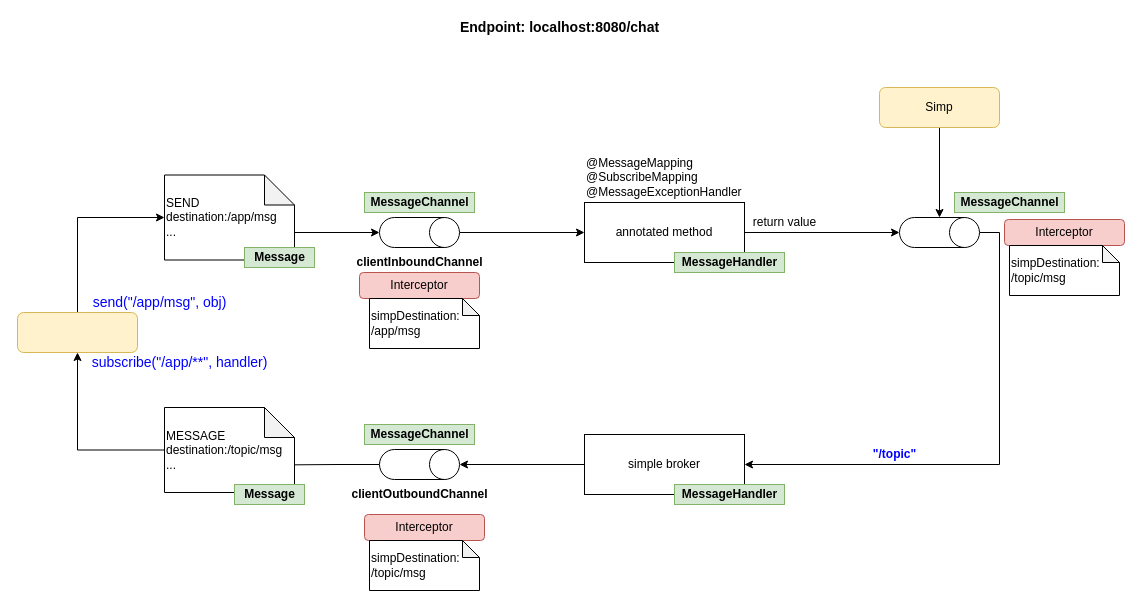
The diagram is 1142 pixels wide and 608 high, and some of its shapes have lost their labels. Each missing label, with the centre of its shape:
"brokerChannel" belongs at [939,232].
"WebSocket StompClient" belongs at [77,332].
